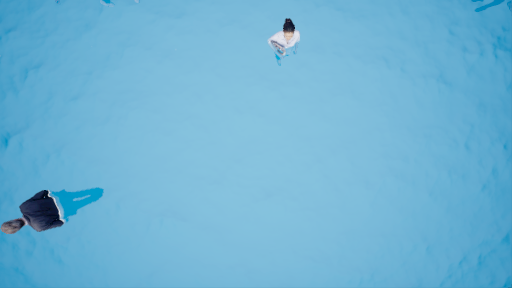person: (2, 184, 122, 237), (262, 12, 308, 73)
